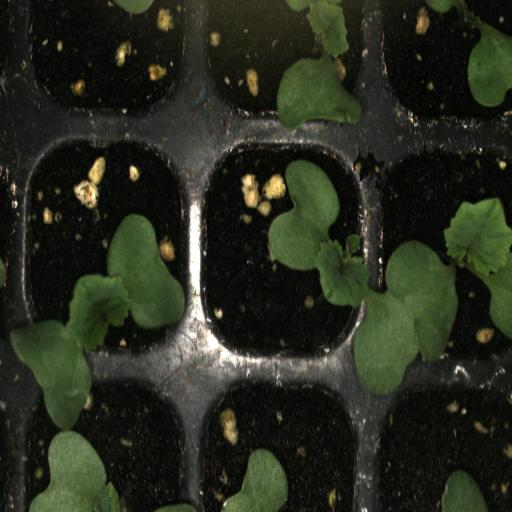Folha: (276, 0, 381, 133), (221, 448, 288, 512), (441, 470, 488, 512)
Germinacao: (194, 125, 376, 377), (12, 124, 194, 373), (375, 126, 512, 377)
